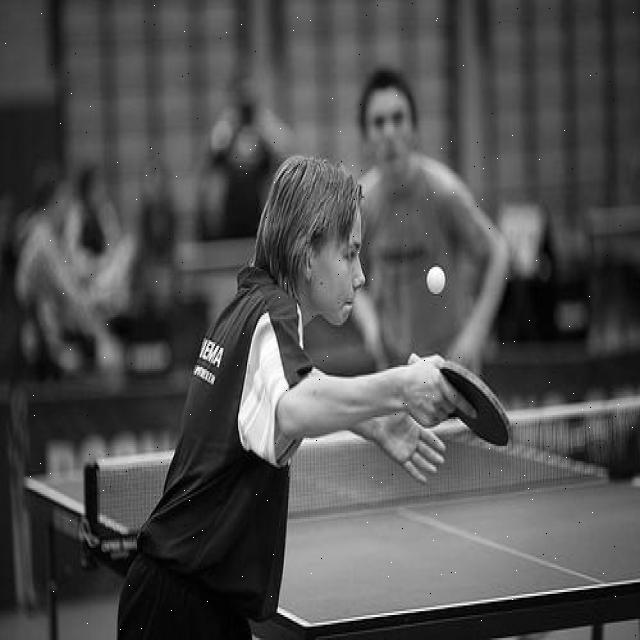ping-pong-ball: (424, 262, 448, 294)
